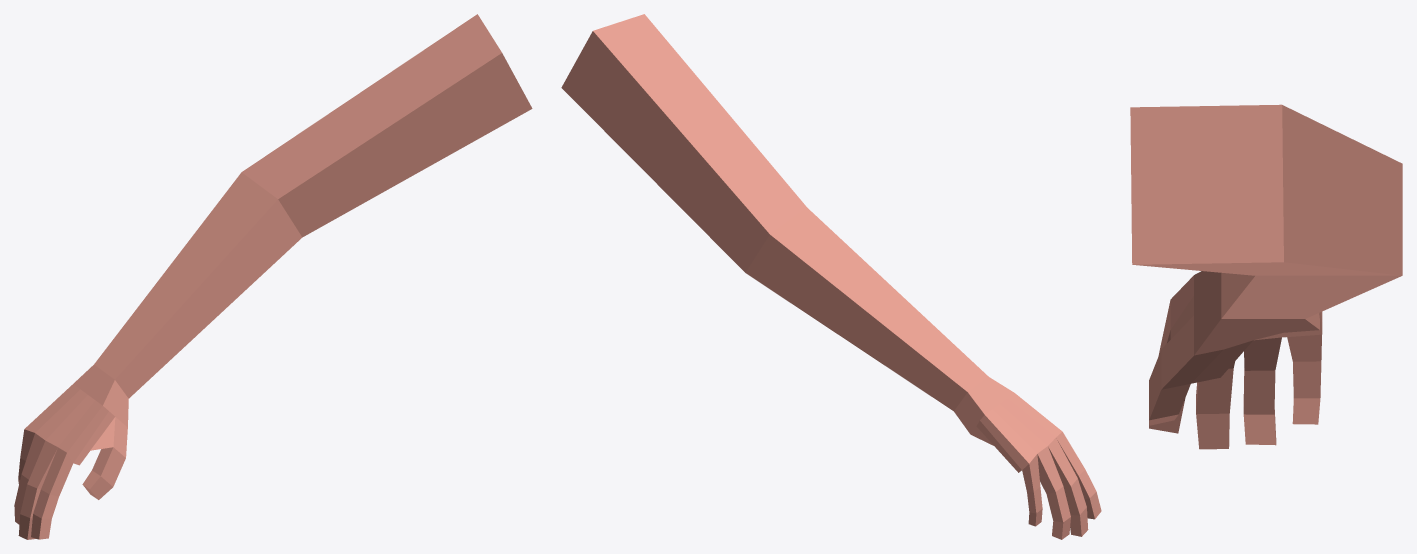
File: HandModel.fbx
The picture shows the model from 3 angles, left to right: view 1: azimuth 30°, elevation 25°; view 2: azimuth 150°, elevation 25°; view 3: azimuth 270°, elevation 25°; orthographic projection. The views are drawn at different scales.
Visible parts, largest first — view 1: Cube; view 2: Cube; view 3: Cube.
Boxes of the visible parts, left/top/right/bottom form: Cube: left=14, top=14, right=532, bottom=539; Cube: left=561, top=14, right=1101, bottom=539; Cube: left=1130, top=104, right=1402, bottom=449.
Bounding box in the file's own units: 64.42 × 48.6 × 15.08.
